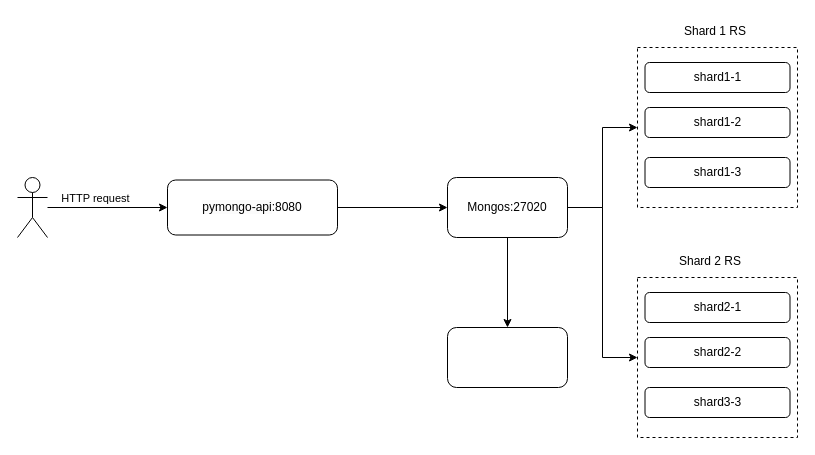
The diagram is 815 pixels wide and 455 high, and some of its shapes have lost their labels. The centre of each missing label's shape, as x and y in pixels:
"Client" belongs at (32,207).
"configSrv :27017" belongs at (507,357).
